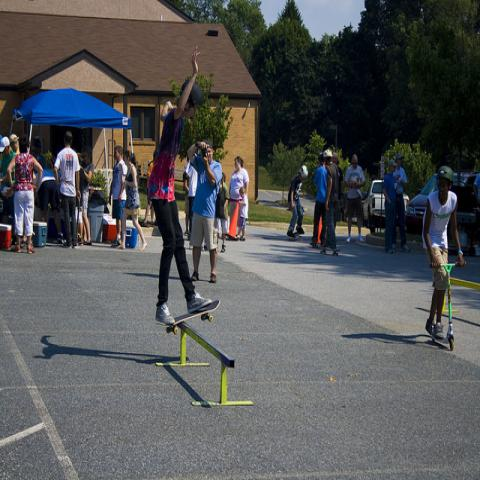car: (405, 172, 477, 248), (361, 179, 409, 229)
